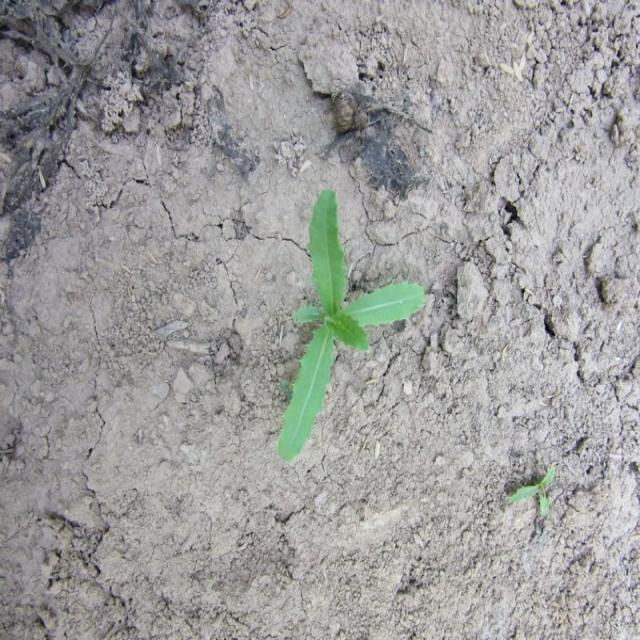cs: (272, 185, 429, 468)
